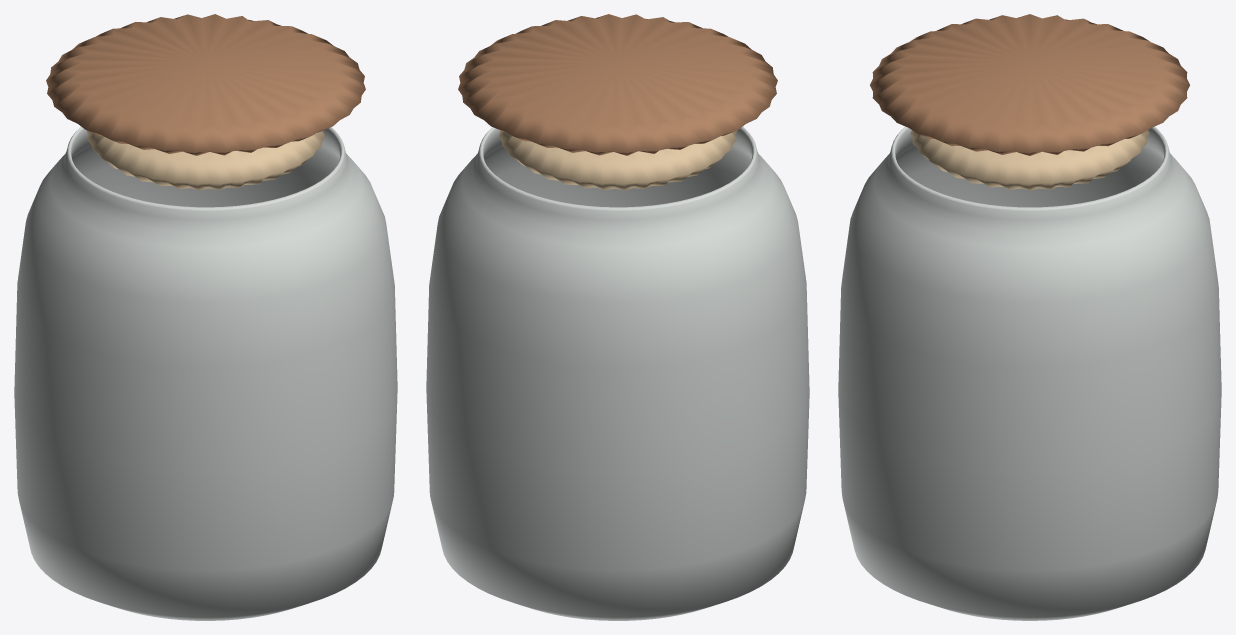
File: tarro.glb
3 views of the same model, side by side, from view 1: azimuth 30°, elevation 25°; view 2: azimuth 150°, elevation 25°; view 3: azimuth 270°, elevation 25° (orthographic).
Visible parts, largest first — view 1: tarro, Cylinder.001, Cylinder; view 2: tarro, Cylinder.001, Cylinder; view 3: tarro, Cylinder.001, Cylinder.
Boxes of the visible parts, x1=… form: tarro: x1=14, y1=126, x2=397, y2=620; Cylinder.001: x1=46, y1=14, x2=365, y2=155; Cylinder: x1=86, y1=130, x2=325, y2=190; tarro: x1=426, y1=126, x2=809, y2=620; Cylinder.001: x1=458, y1=14, x2=777, y2=155; Cylinder: x1=498, y1=130, x2=737, y2=190; tarro: x1=838, y1=126, x2=1221, y2=620; Cylinder.001: x1=870, y1=14, x2=1189, y2=155; Cylinder: x1=910, y1=130, x2=1149, y2=190.
Bounding box in the file's own units: 0.3377 × 0.4885 × 0.3377.
